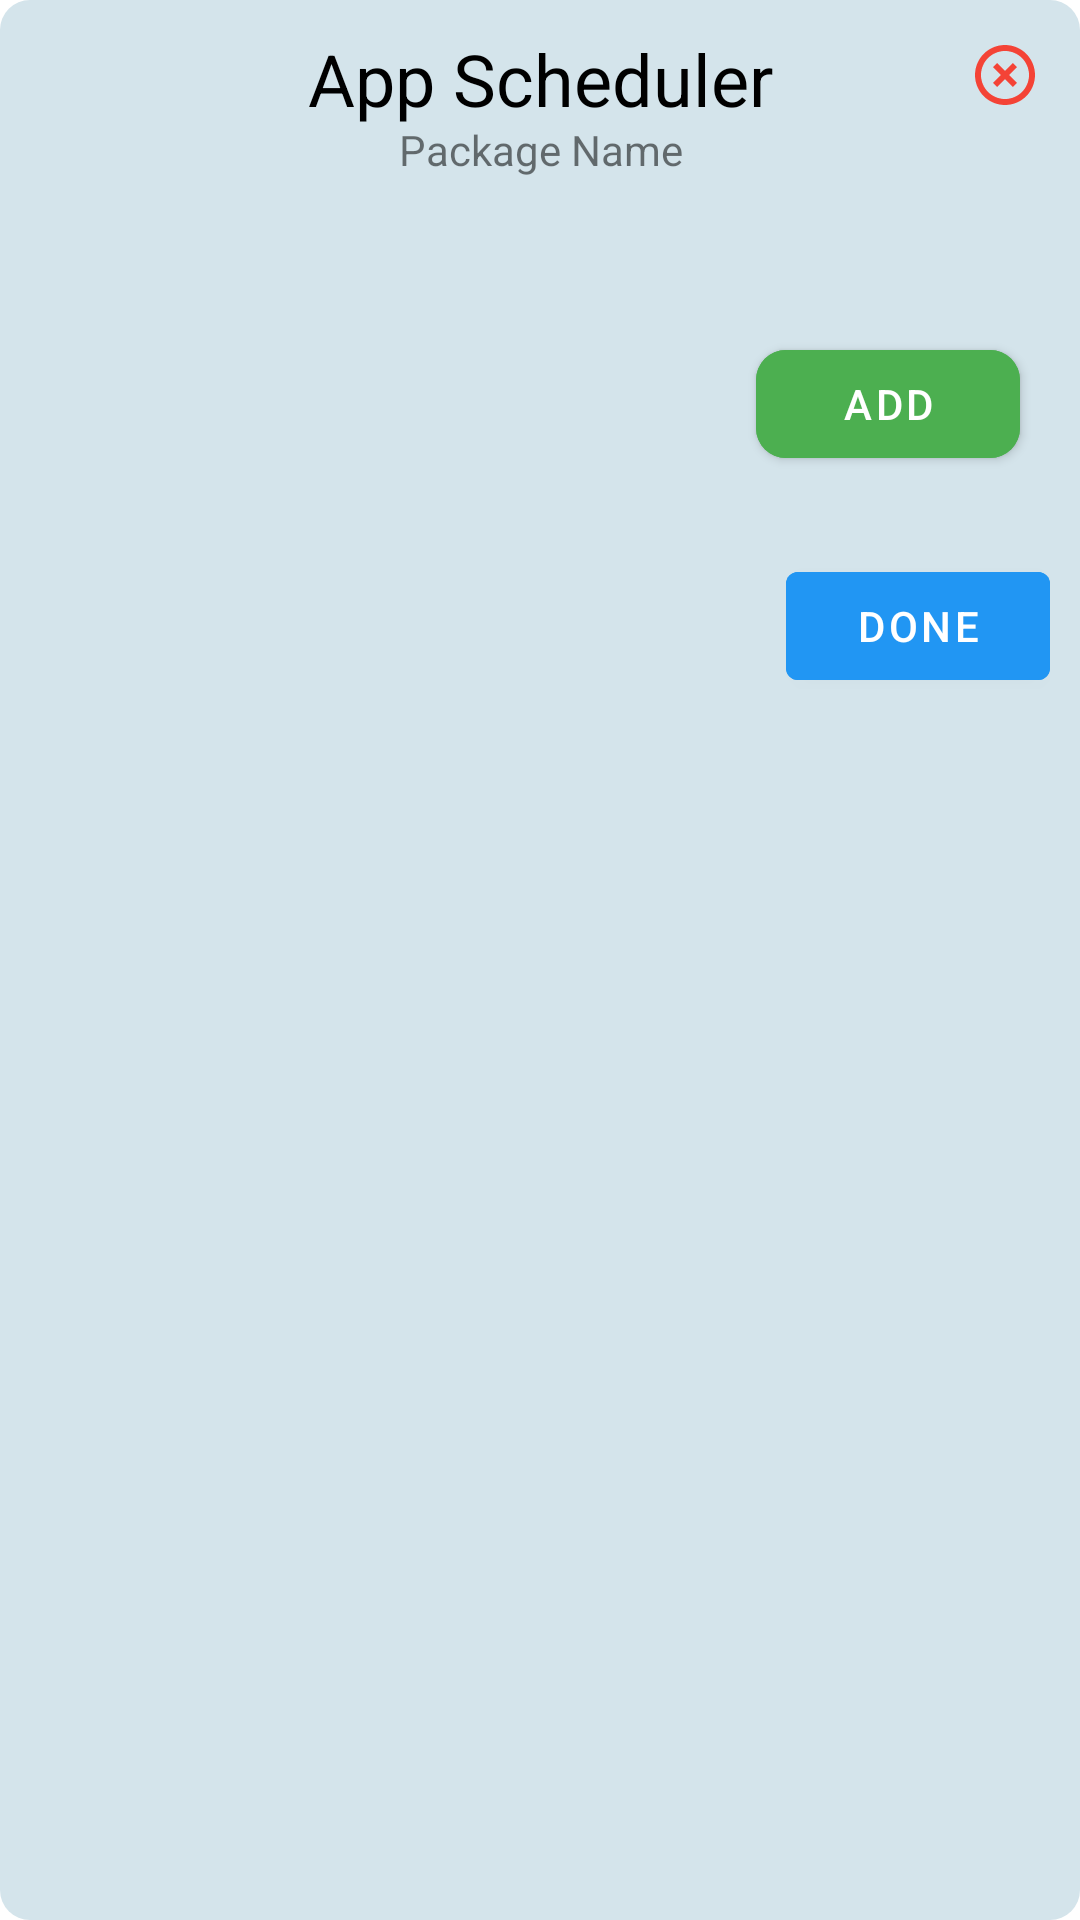

Icons on this 1080×1920 Android screen, each with its box as (x1, y1, x2, y2):
cross: (975, 45, 1035, 105)
